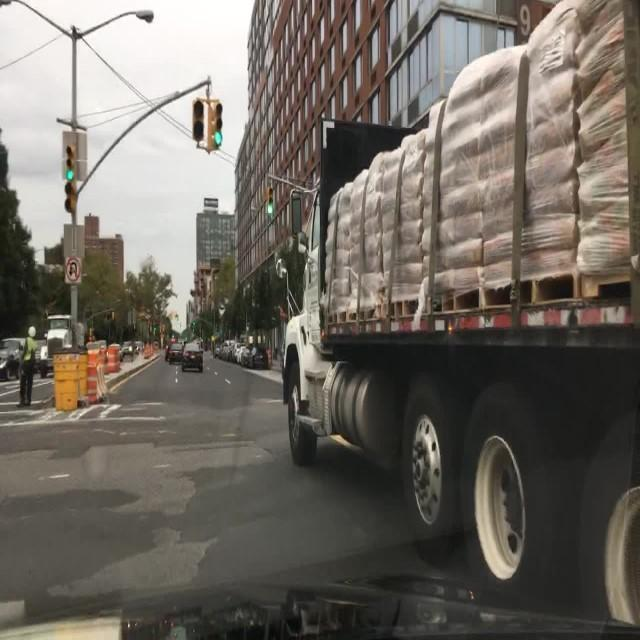normal: (287, 40, 640, 633), (153, 304, 209, 391)
